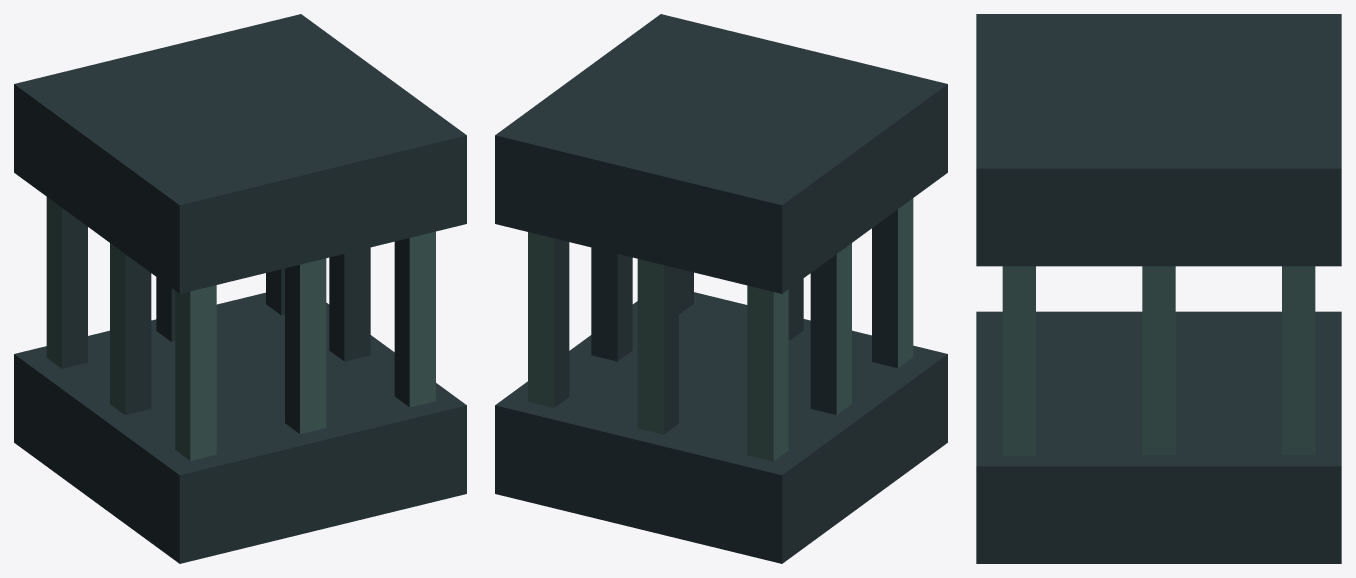
File: cage.fbx
3 renders of one model, left to right at view 1: azimuth 30°, elevation 25°; view 2: azimuth 150°, elevation 25°; view 3: azimuth 270°, elevation 25°, orthographic. The views are drawn at different scales.
Parts seen in each view (by area): view 1: cage; view 2: cage; view 3: cage.
Part boxes in pixels (x1,y1,x2,y2): cage: [14, 14, 466, 563]; cage: [495, 14, 947, 563]; cage: [976, 14, 1341, 563].
Bounding box in the file's own units: 100 × 119 × 100.
1 material, 1 textured.
